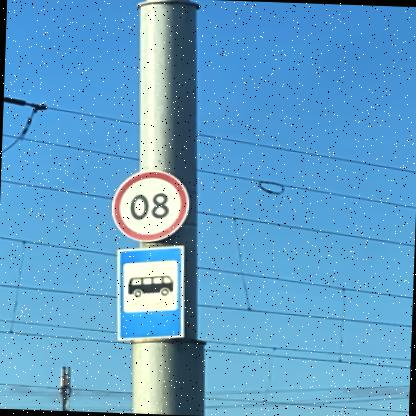speedlimit: (114, 168, 193, 242)
